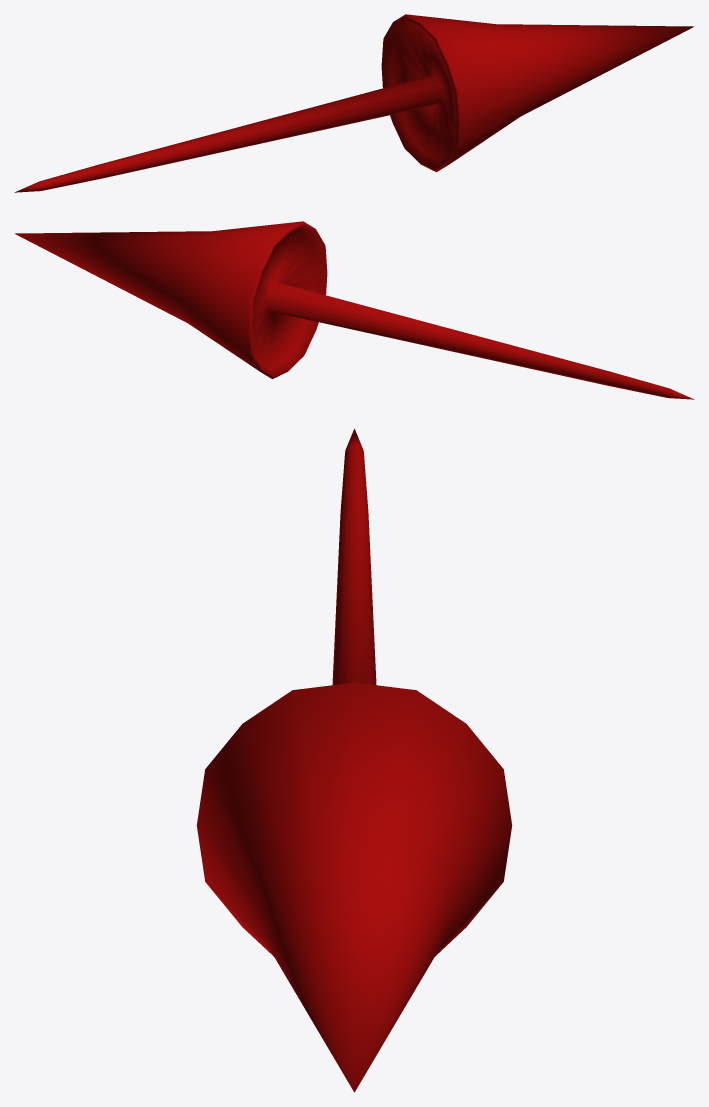
File: XRedArrow.obj
3 renders of one model, top to bottom at view 1: azimuth 30°, elevation 25°; view 2: azimuth 150°, elevation 25°; view 3: azimuth 270°, elevation 25°, orthographic. The views are drawn at different scales.
Parts seen in each view (by area): view 1: xRedArrow_xRedArrow_XArrow_Red_XArrow_Cube.001; view 2: xRedArrow_xRedArrow_XArrow_Red_XArrow_Cube.001; view 3: xRedArrow_xRedArrow_XArrow_Red_XArrow_Cube.001.
Boxes of the visible parts, left/top/right/bottom form: xRedArrow_xRedArrow_XArrow_Red_XArrow_Cube.001: left=14, top=14, right=693, bottom=192; xRedArrow_xRedArrow_XArrow_Red_XArrow_Cube.001: left=15, top=221, right=694, bottom=399; xRedArrow_xRedArrow_XArrow_Red_XArrow_Cube.001: left=196, top=428, right=512, bottom=1092.
Size of the model in its own units: 1.28 by 0.257 by 0.257.
